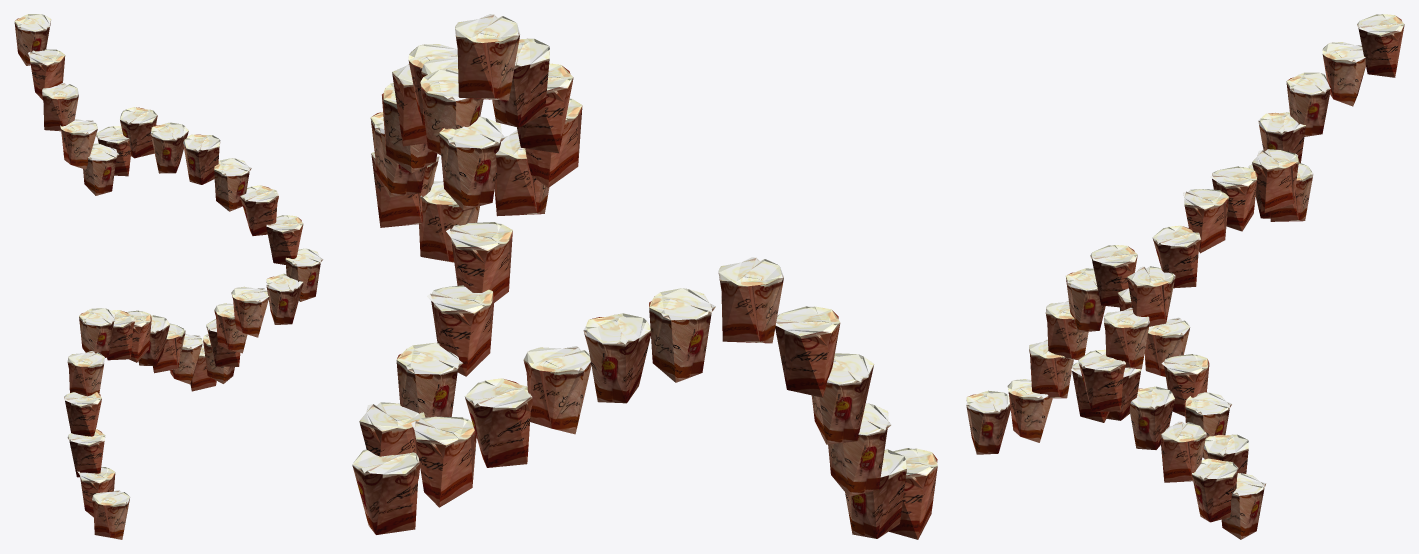
The model's file is jojoduck_threeJS.glb.
3 renders of one model, left to right at view 1: azimuth 30°, elevation 25°; view 2: azimuth 150°, elevation 25°; view 3: azimuth 270°, elevation 25°, orthographic. The views are drawn at different scales.
Visible parts, largest first — view 1: BézierCurve.002; view 2: BézierCurve.002; view 3: BézierCurve.002.
Boxes of the visible parts, box(x1,y1,x2,y2) form: BézierCurve.002: box(14, 14, 323, 539); BézierCurve.002: box(352, 14, 937, 539); BézierCurve.002: box(966, 14, 1404, 539).
Size of the model in its own units: 6.3 by 8.5 by 7.08.
Materials: 1 (1 with a texture image).
